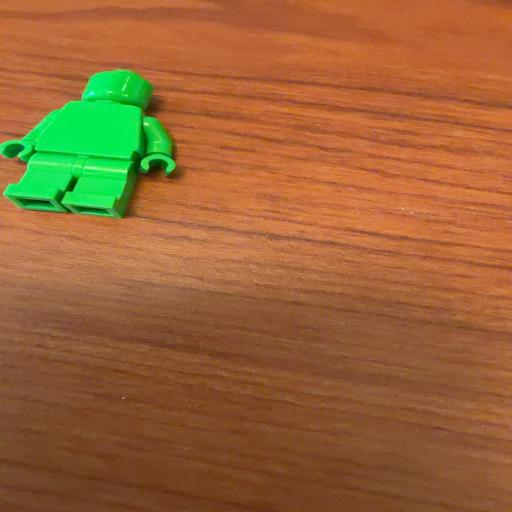UnoQ-minifig-detector: (0, 70, 175, 218)
